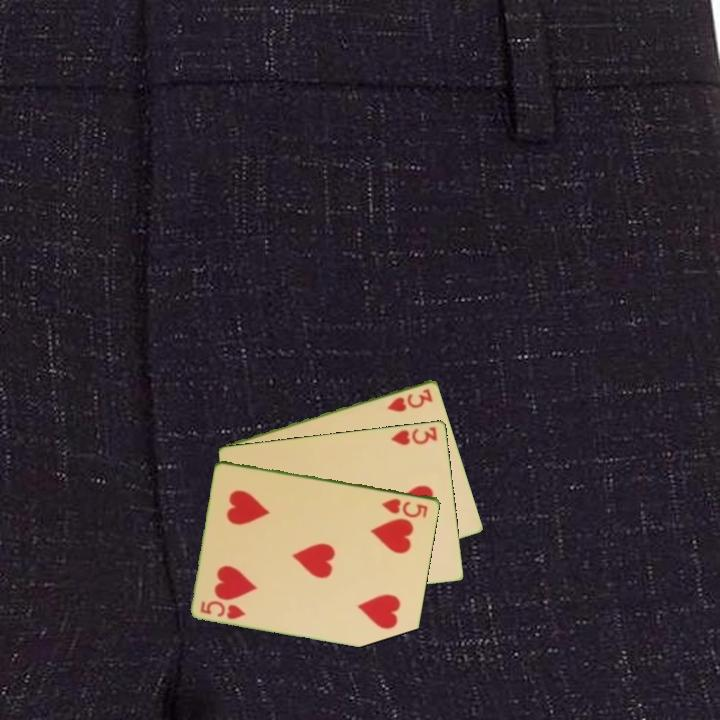3h: (384, 384, 436, 414), (388, 423, 440, 448)
5h: (379, 495, 431, 520), (197, 597, 249, 622)
